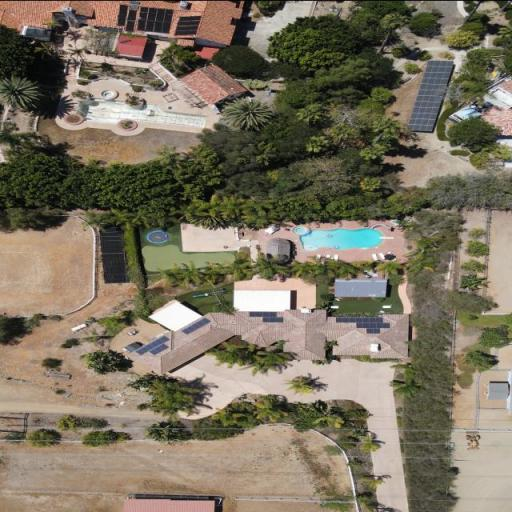solar-panel: (405, 59, 454, 130), (98, 222, 128, 283), (137, 6, 174, 33), (336, 316, 389, 333), (135, 335, 170, 355), (174, 15, 202, 35), (181, 317, 211, 334), (249, 311, 283, 322), (125, 9, 136, 31), (117, 4, 128, 26)
